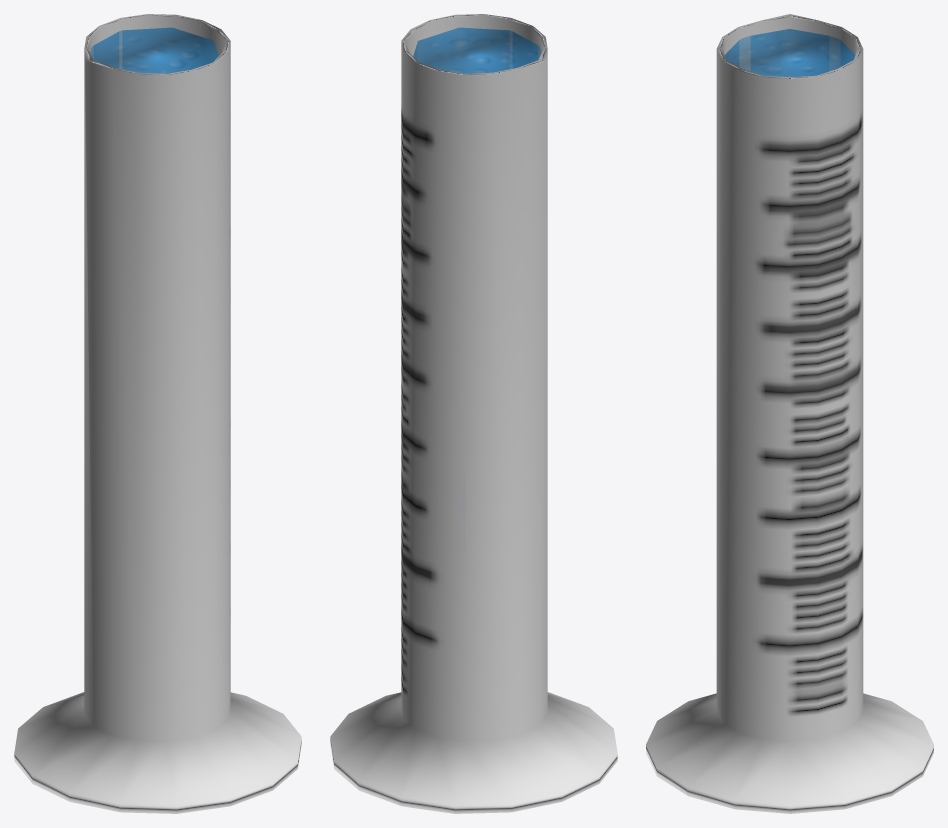
The model's file is LabDesk_Object_GraduatedCylinderFull.fbx.
3 views of the same model, side by side, from view 1: azimuth 30°, elevation 25°; view 2: azimuth 150°, elevation 25°; view 3: azimuth 270°, elevation 25° (orthographic).
Visible parts, largest first — view 1: LabDesk_Object_GraduatedCylinderFill, LabDesk_Object_GraduatedCylinderFillShape; view 2: LabDesk_Object_GraduatedCylinderFill, LabDesk_Object_GraduatedCylinderFillShape; view 3: LabDesk_Object_GraduatedCylinderFill, LabDesk_Object_GraduatedCylinderFillShape.
Part boxes in pixels (x1,y1,x2,y2): LabDesk_Object_GraduatedCylinderFill: (14,14,301,813); LabDesk_Object_GraduatedCylinderFillShape: (90,27,218,73); LabDesk_Object_GraduatedCylinderFill: (330,14,617,813); LabDesk_Object_GraduatedCylinderFillShape: (413,27,541,73); LabDesk_Object_GraduatedCylinderFill: (646,14,933,813); LabDesk_Object_GraduatedCylinderFillShape: (724,29,855,76).
Bounding box in the file's own units: 5.11 × 13.8 × 5.11.
2 materials, 2 textured.
